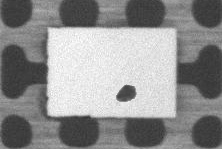DIE_INK: (167, 54, 209, 70)
